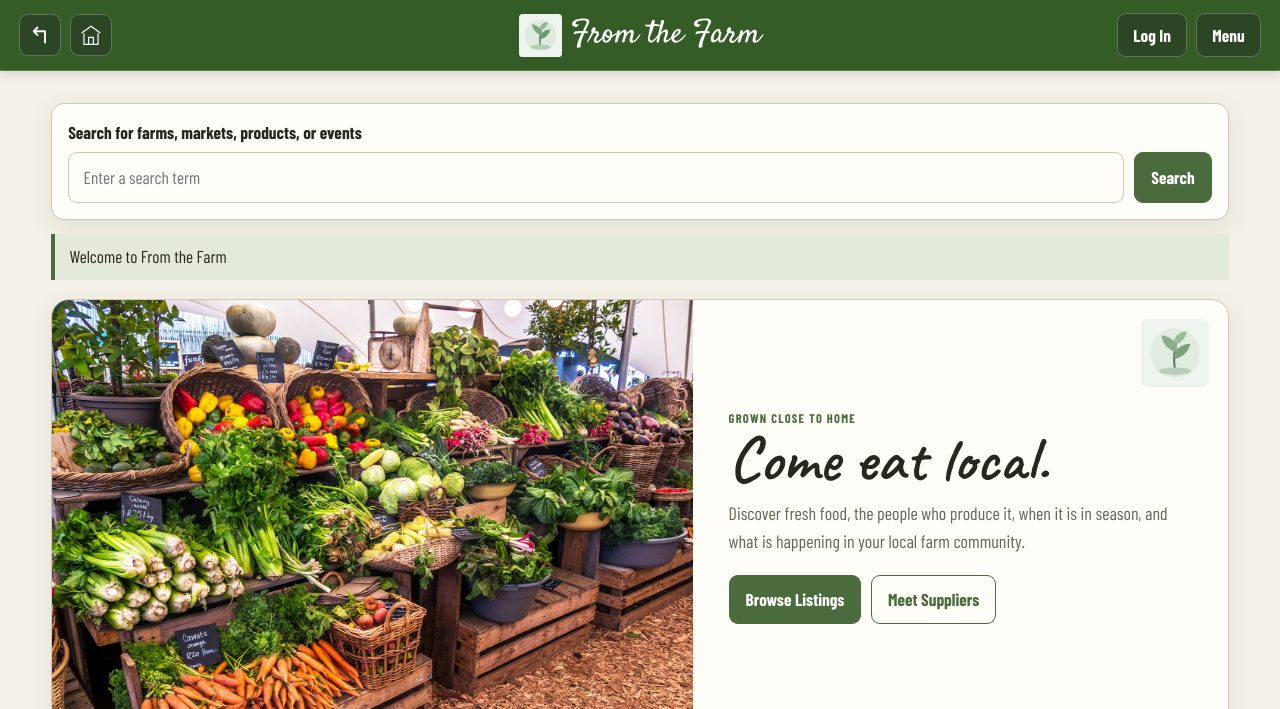
Test: add uses the server quantity and checkout returns to listings
The width and height of the screenshot is (1280, 709).
Click the button "Browse Listings" at (795, 600), box [729,575,862,624]
(page scrolled)
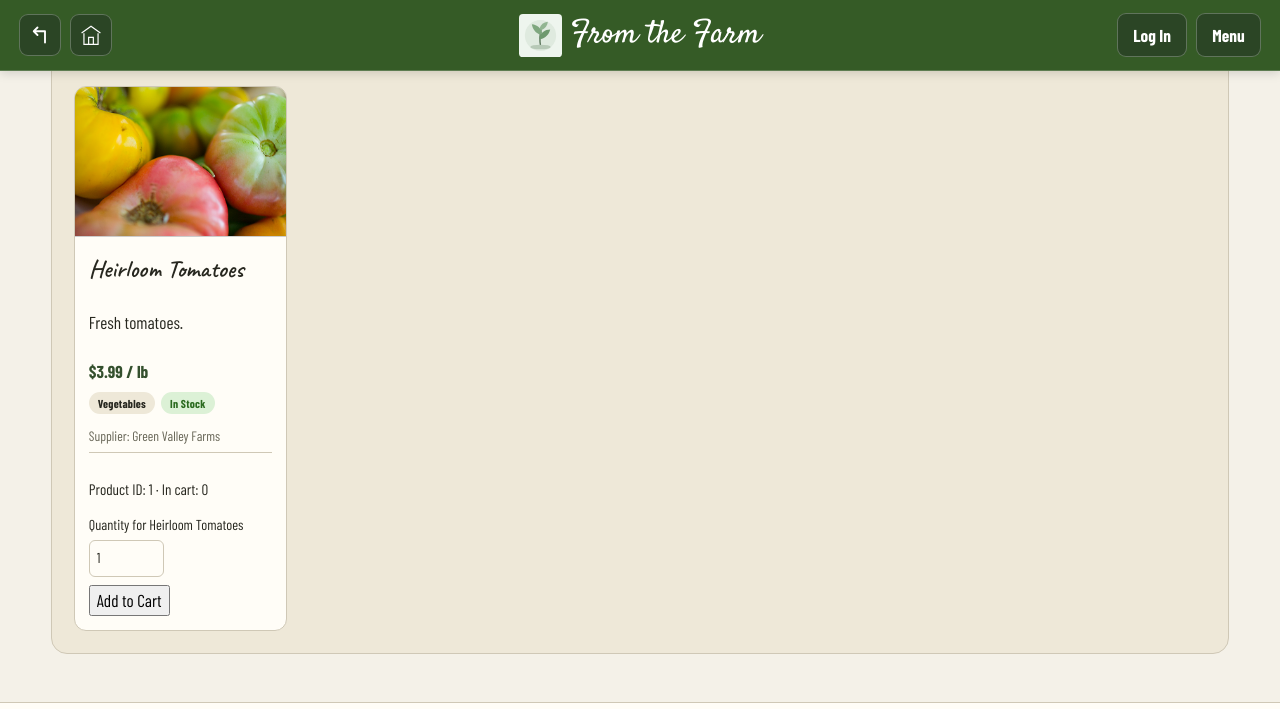
Expected: the button "Add to Cart" is enabled
Click the button "Add to Cart" at (129, 601), box [89,585,170,616]
(page scrolled)
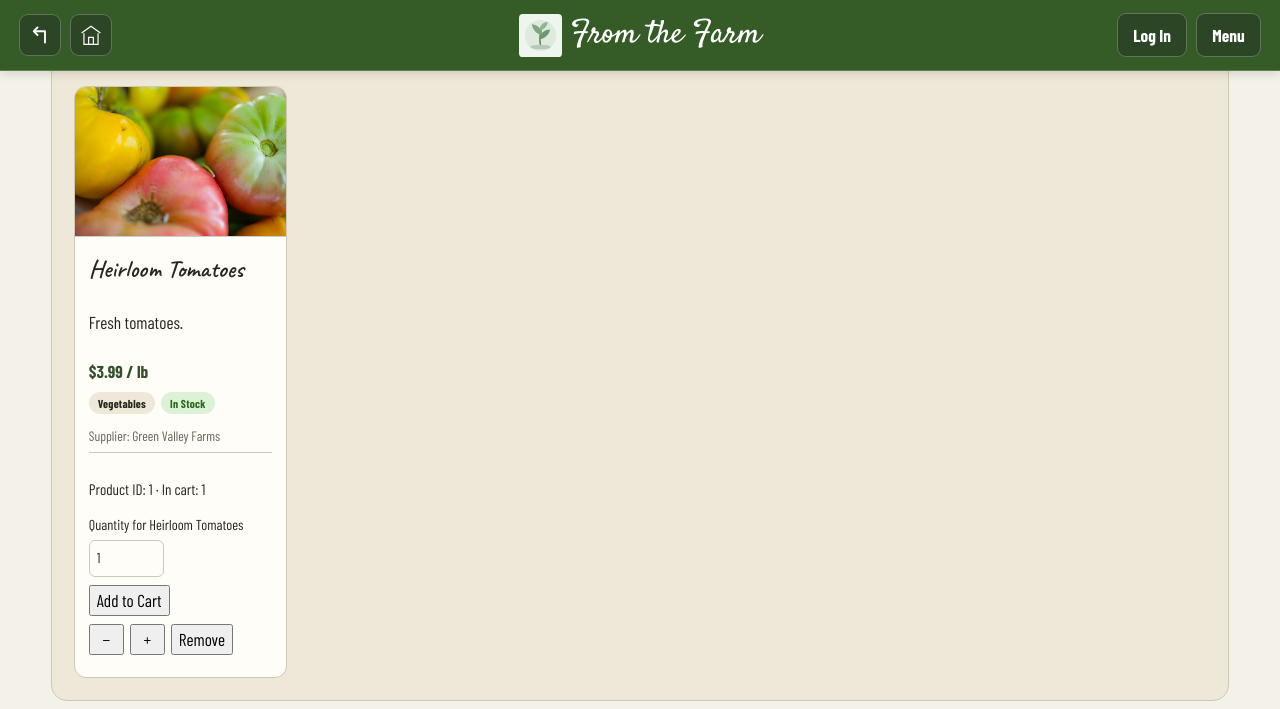
Expected: the text "Product ID: 1 · In cart: 1" is shown, [89,480,206,498]
Click the button "Menu" at (1228, 35), box [1196,13,1261,57]
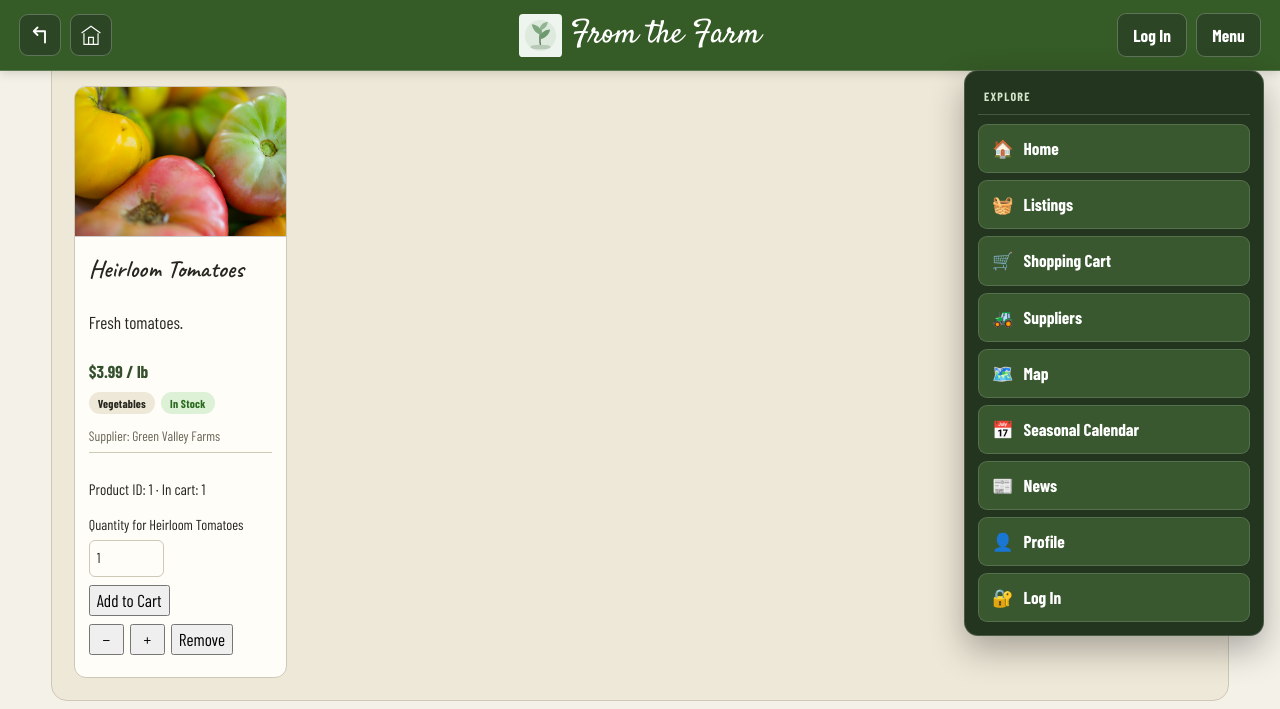
Click the menu item "🛒 Shopping Cart" at (1067, 260), box [978,236,1250,286]
(page scrolled)
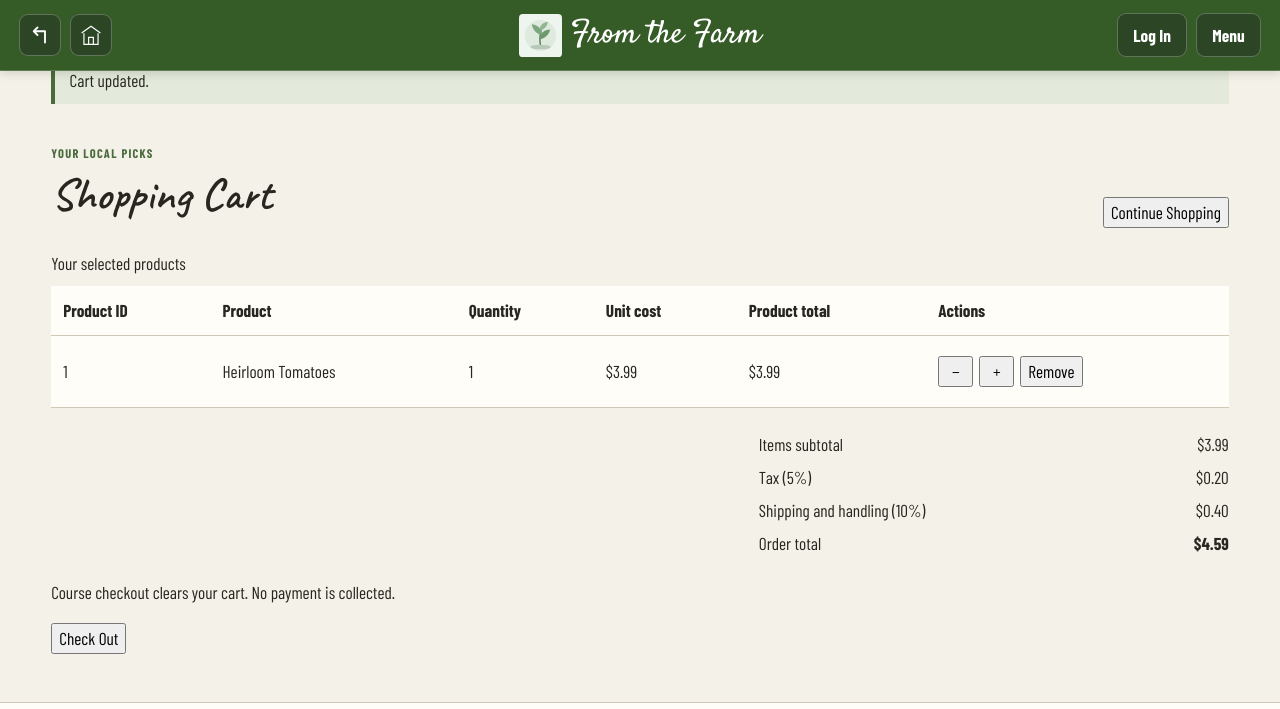
Expected: the text "$4.59" is shown, [1194,533,1229,553]
Click the button "Check Out" at (89, 638), box [51,623,126,654]
(page scrolled)
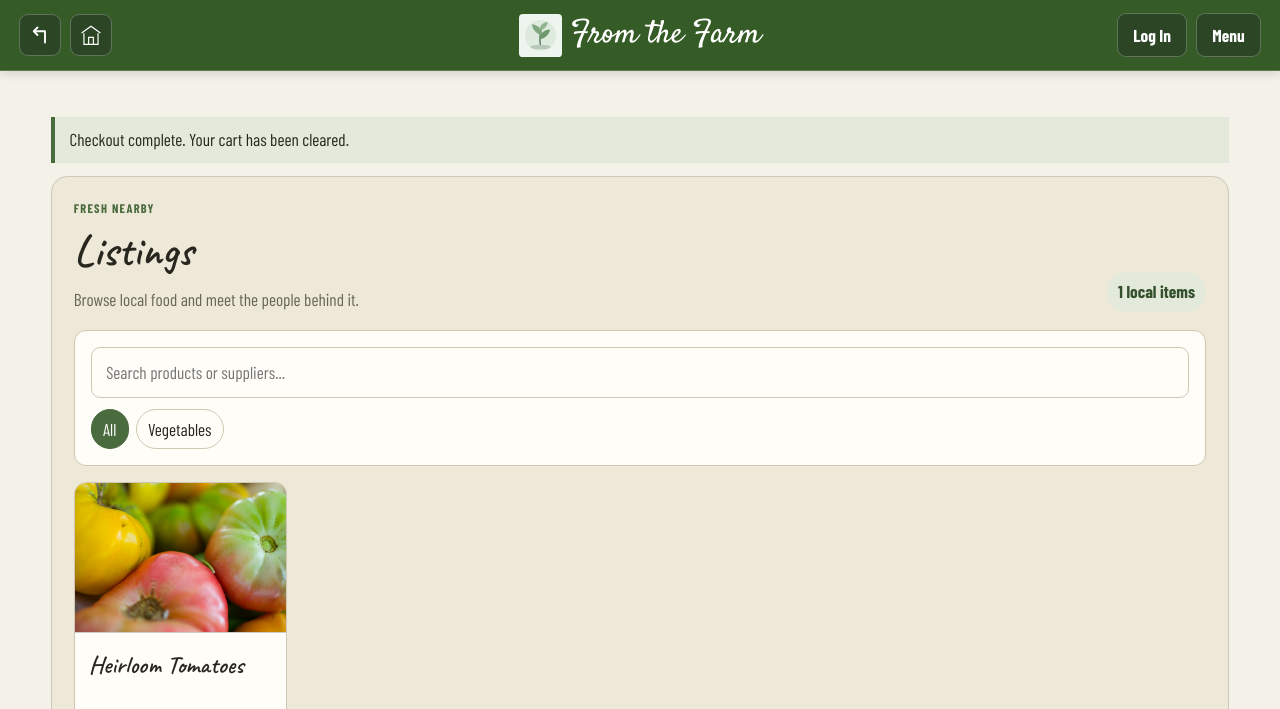
Expected: the heading "Listings" is shown, [74,222,193,278]
